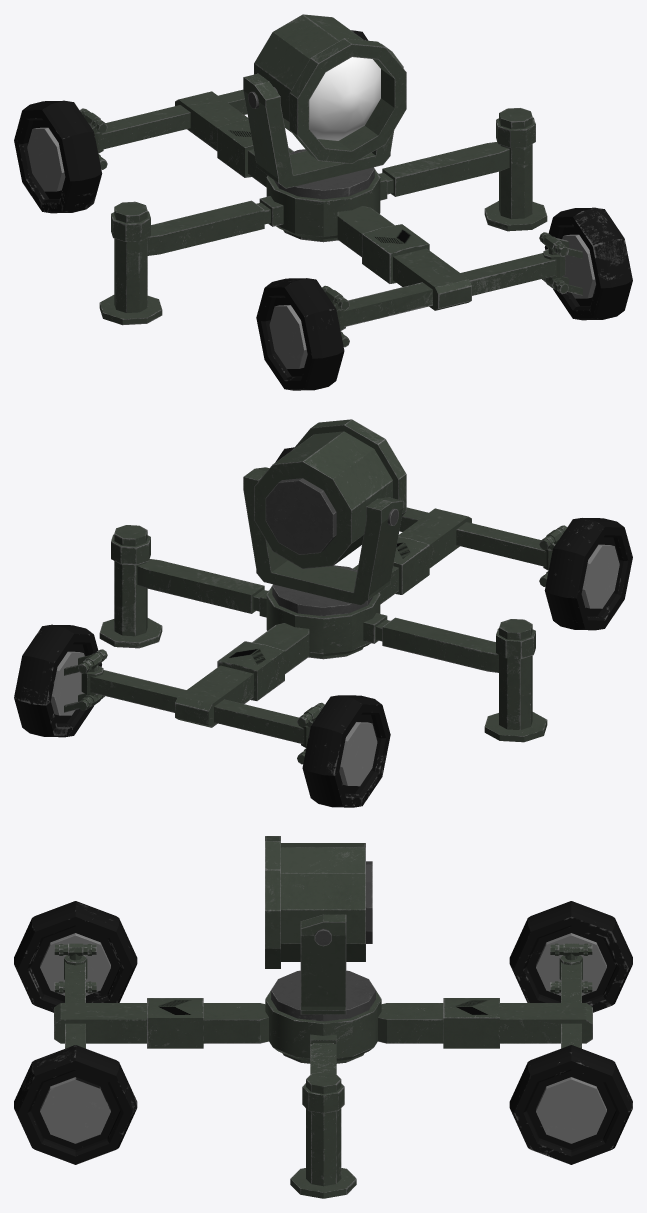
File: Gunmaggedon Air Defense Searchlight.fbx
3 views of the same model, one above another, from view 1: azimuth 30°, elevation 25°; view 2: azimuth 150°, elevation 25°; view 3: azimuth 270°, elevation 25° (orthographic). The views are drawn at different scales.
Visible parts, largest first — view 1: base, wheels, supports, Cylinder, Cube, Cylinder.001, traverse.001; view 2: base, wheels, supports, Cylinder, Cube, traverse.001; view 3: wheels, base, Cylinder, supports, Cube, traverse.001.
Boxes of the visible parts, x1,y1,x2,y2 form: base: (79,89,582,347); wheels: (14,30,632,390); supports: (99,108,547,325); Cylinder: (248,14,406,163); Cube: (243,43,403,188); Cylinder.001: (309,57,380,140); traverse.001: (274,149,374,199); base: (64,507,567,764); wheels: (14,447,632,807); supports: (99,525,547,742); Cylinder: (254,419,406,568); Cube: (243,467,403,605); traverse.001: (272,565,372,616); wheels: (14,901,632,1164); base: (54,943,592,1063); Cylinder: (265,836,372,968); supports: (290,1034,356,1198); Cube: (300,914,346,1014); traverse.001: (271,970,375,1021).
Size of the model in its own units: 688 by 361 by 817.
Materials: 3 (3 with a texture image).
